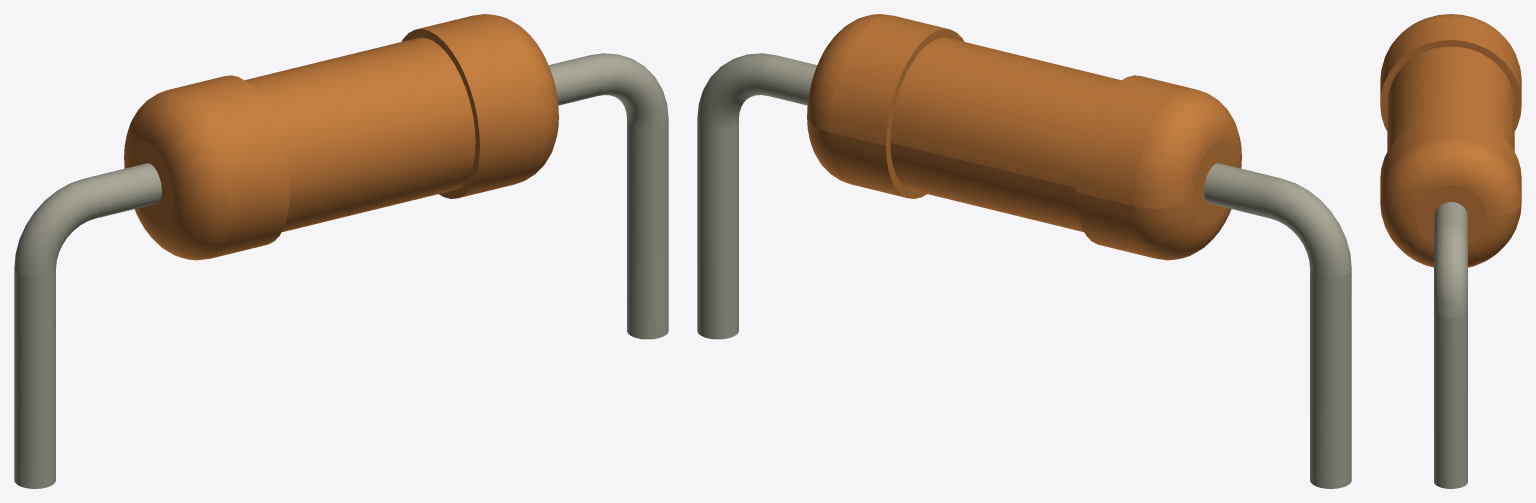
The model's file is resistor-axial.glb.
The picture shows the model from 3 angles, left to right: view 1: azimuth 30°, elevation 25°; view 2: azimuth 150°, elevation 25°; view 3: azimuth 270°, elevation 25°; orthographic projection. The views are drawn at different scales.
Bounding box in the file's own units: 10.76 × 5.5 × 2.5.
